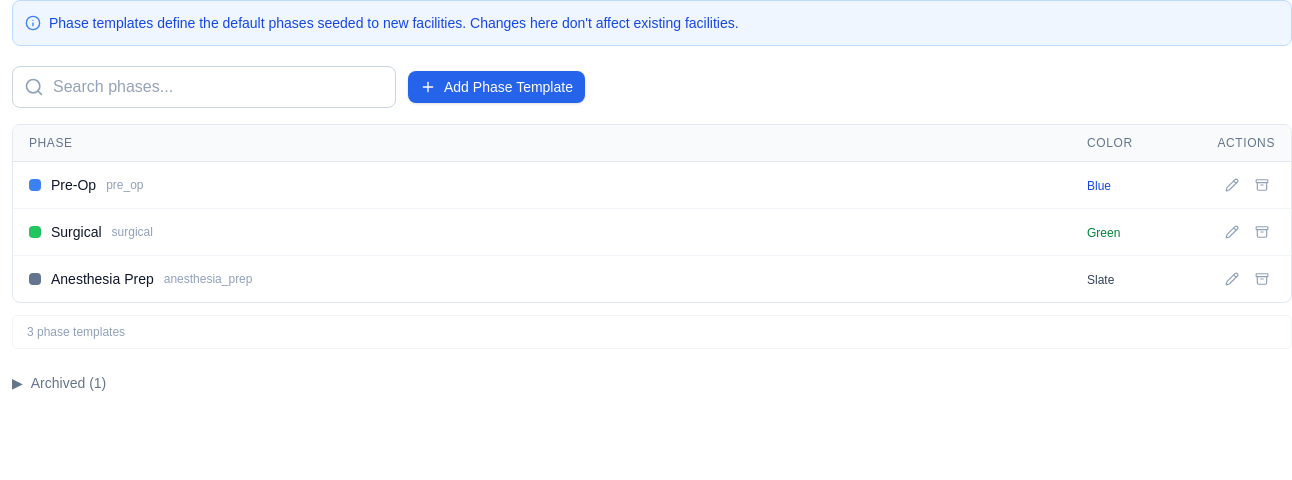
Test: AdminPhaseLibrary › restore archived phase › expands archived section when clicked
Click the button "▶ Archived (1)" at (59,383), box [12,373,106,393]
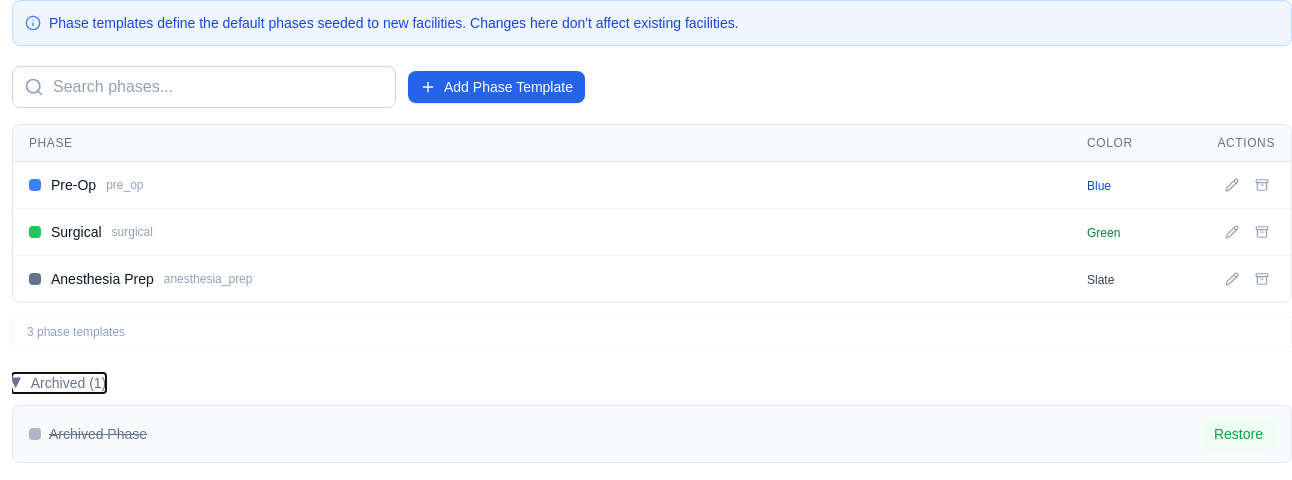
Now the text "Archived Phase" is shown, box [49,424,147,444]
